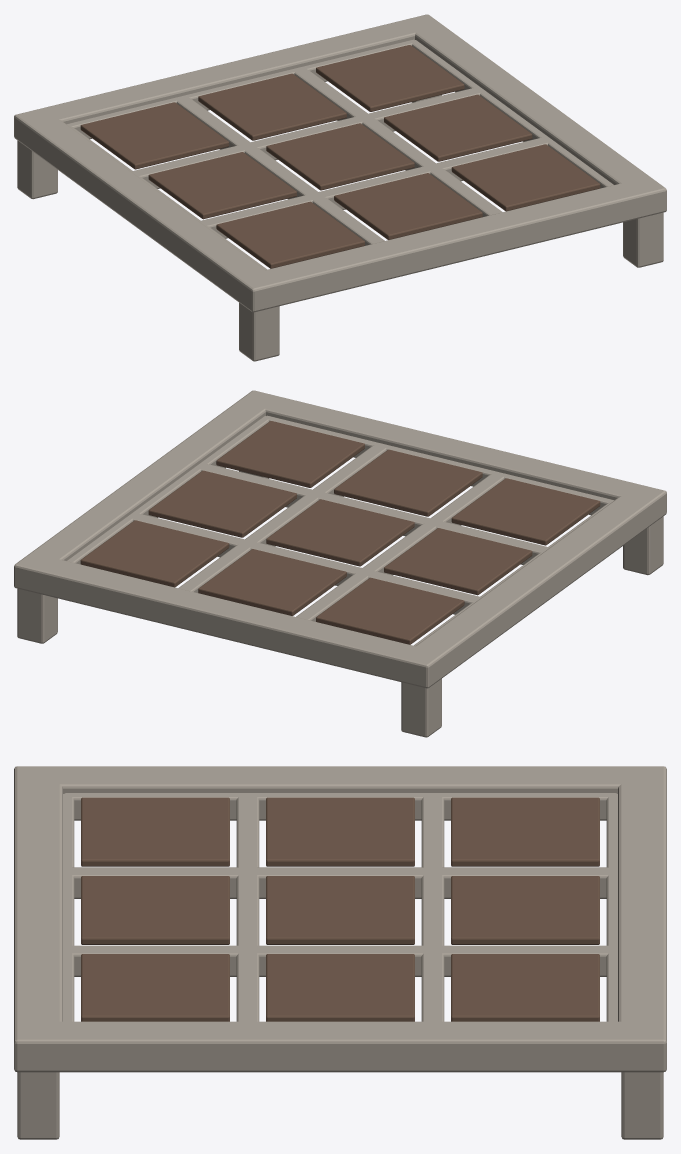
The picture shows the model from 3 angles, top to bottom: view 1: azimuth 30°, elevation 25°; view 2: azimuth 150°, elevation 25°; view 3: azimuth 270°, elevation 25°; orthographic projection. The views are drawn at different scales.
Parts seen in each view (by area): view 1: vault; view 2: vault; view 3: vault.
Part boxes in pixels (left/top/right/bottom): vault: left=14, top=14, right=666, bottom=361; vault: left=14, top=390, right=666, bottom=737; vault: left=14, top=766, right=666, bottom=1139.
Size of the model in its own units: 4 by 0.685 by 4.
